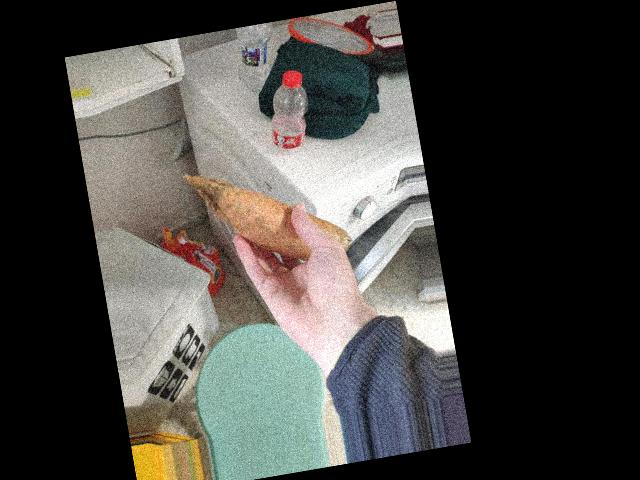sweet_potato: (226, 172, 324, 267)
